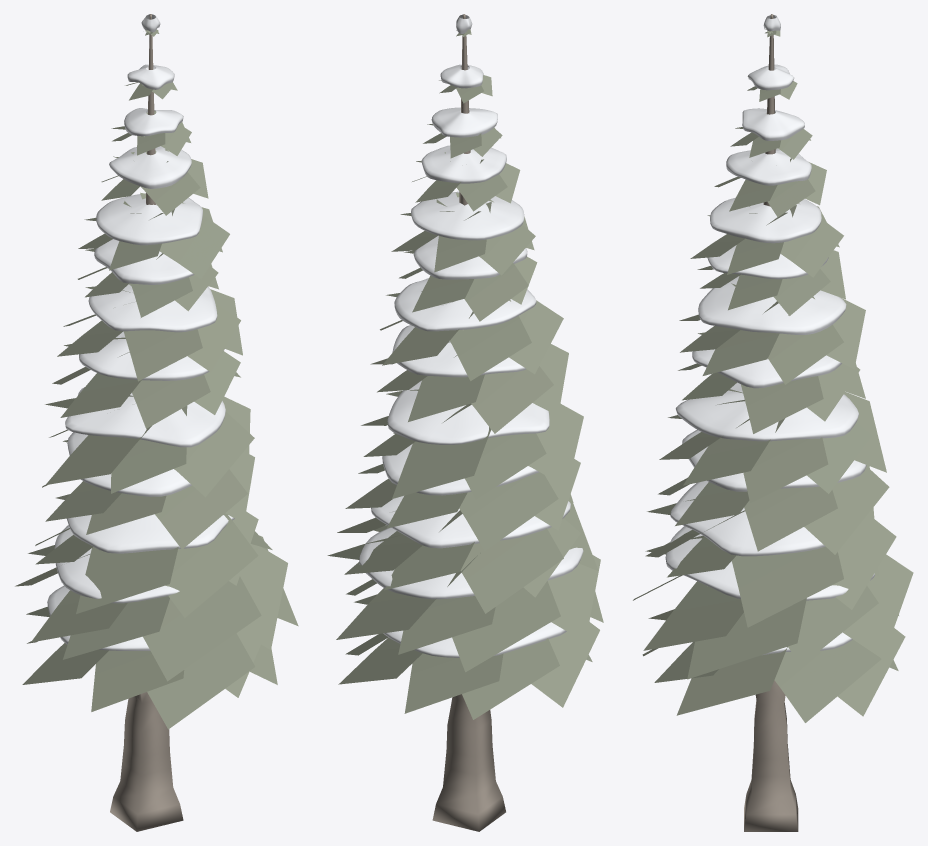
File: fir_611.glb
3 views of the same model, side by side, from view 1: azimuth 30°, elevation 25°; view 2: azimuth 150°, elevation 25°; view 3: azimuth 270°, elevation 25° (orthographic).
Parts seen in each view (by area): view 1: fir_611_boughs, fir_611_snow, fir_611_limbs; view 2: fir_611_boughs, fir_611_snow, fir_611_limbs; view 3: fir_611_boughs, fir_611_snow, fir_611_limbs.
Part boxes in pixels (left/top/right/bottom): fir_611_boughs: left=15, top=29, right=298, bottom=729; fir_611_snow: left=47, top=14, right=234, bottom=650; fir_611_limbs: left=110, top=14, right=183, bottom=831; fir_611_boughs: left=327, top=29, right=603, bottom=719; fir_611_snow: left=359, top=14, right=583, bottom=657; fir_611_limbs: left=432, top=14, right=505, bottom=831; fir_611_boughs: left=633, top=29, right=913, bottom=722; fir_611_snow: left=665, top=15, right=874, bottom=655; fir_611_limbs: left=744, top=14, right=798, bottom=831.
Size of the model in its own units: 6.38 by 19.9 by 6.28.
